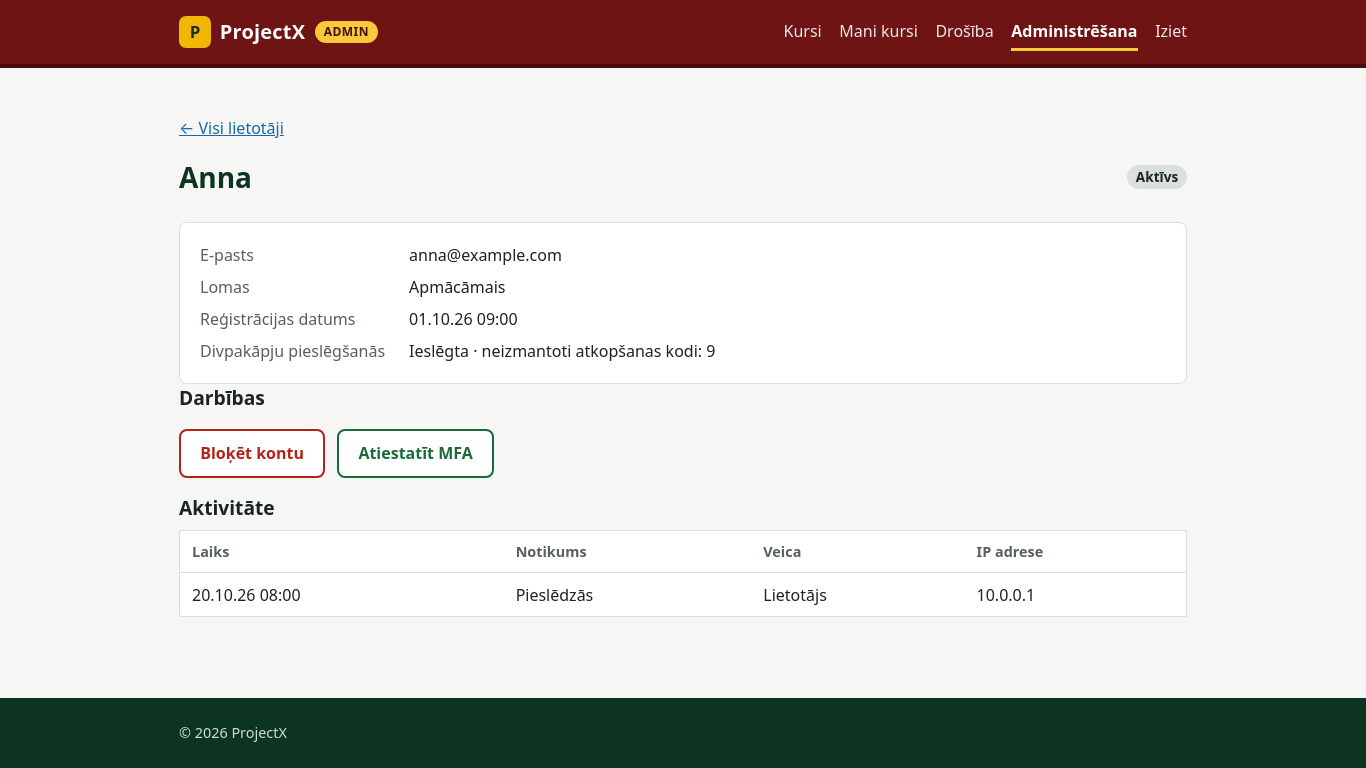
Test case: admin user page › lets an admin block a learner after confirming
Click the button "Bloķēt kontu".
click(252, 453)  # box [179,429,325,478]
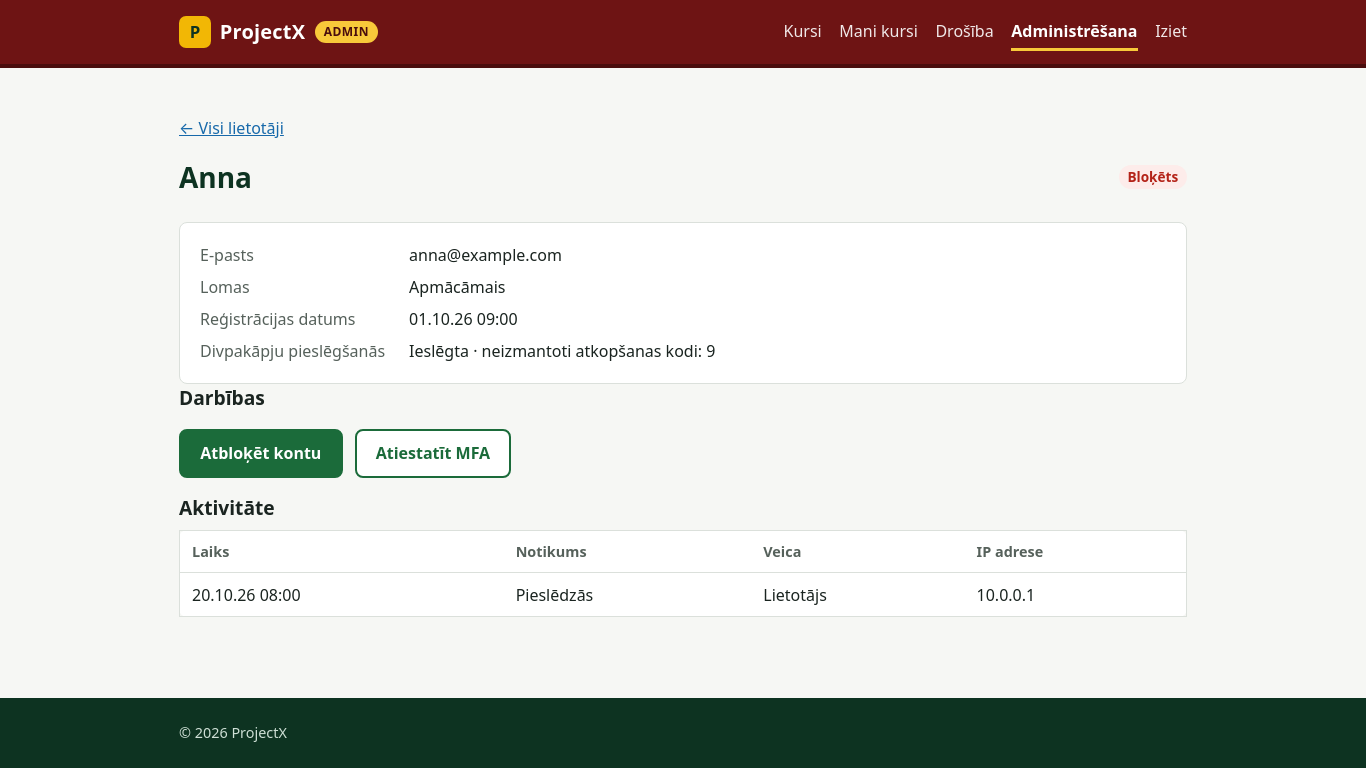
Expected: the button "Atbloķēt kontu" is shown, [179,429,342,478]
